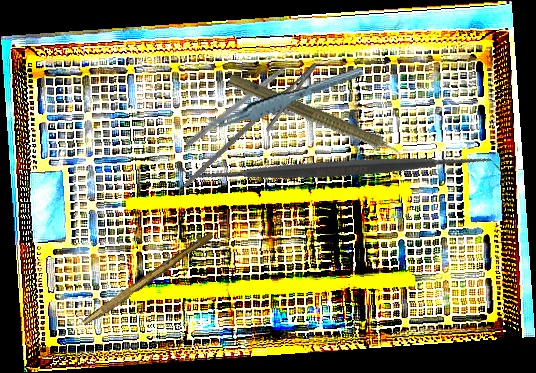Handpiece: (224, 70, 414, 169)
Needle Holder: (182, 47, 329, 212)
Pusher: (184, 50, 307, 150)
Scalpel Handle: (81, 229, 215, 330)
Spatula Surgical: (176, 5, 502, 331)
Tissue Forceps: (199, 65, 369, 132)
